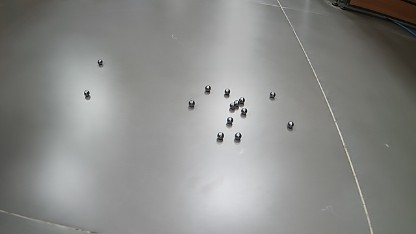ironball: (217, 131, 224, 140), (226, 116, 233, 124), (234, 132, 241, 140), (188, 100, 195, 107), (238, 97, 245, 104), (287, 121, 294, 128), (241, 107, 247, 115), (224, 88, 230, 95), (269, 91, 275, 98), (229, 102, 235, 109), (84, 90, 90, 96), (205, 85, 211, 91), (97, 59, 102, 65), (234, 100, 239, 106)
